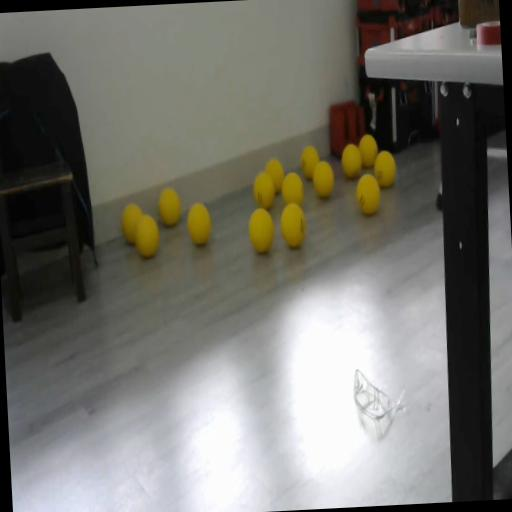FUEL: (246, 205, 276, 254), (279, 201, 307, 249), (133, 212, 161, 259), (185, 201, 213, 247), (355, 172, 382, 216), (158, 187, 182, 227), (280, 170, 305, 208), (373, 150, 397, 188), (340, 142, 363, 180), (264, 156, 286, 194), (299, 144, 321, 180), (357, 132, 379, 168)
